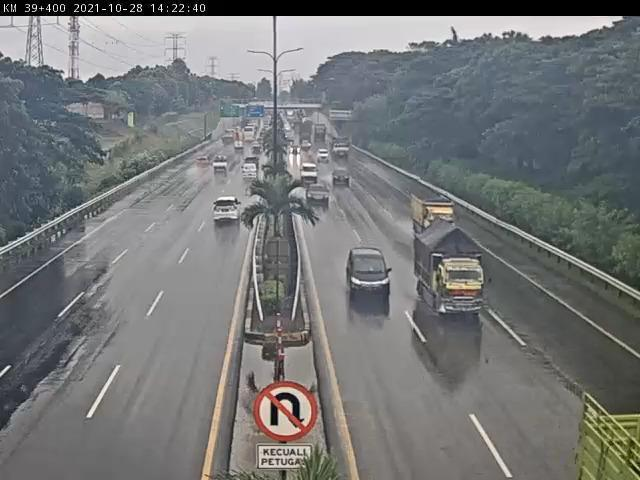car: (347, 247, 391, 296), (214, 198, 244, 225), (308, 183, 335, 208), (302, 161, 321, 182), (332, 168, 352, 186), (241, 165, 262, 182), (212, 157, 231, 174), (242, 156, 261, 171), (198, 156, 213, 170)
truck: (409, 220, 487, 318), (409, 192, 457, 234)
